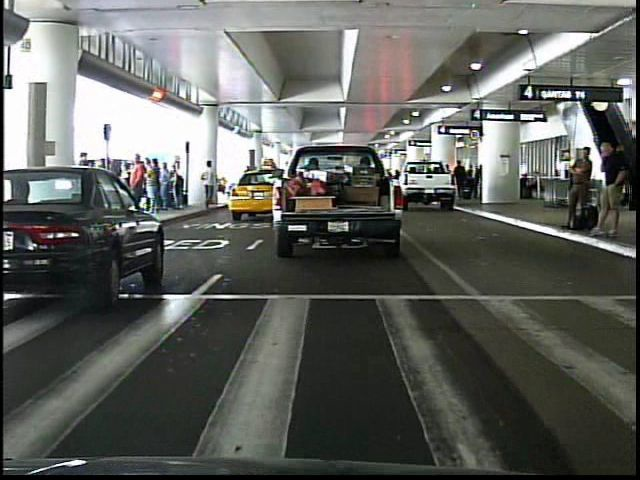person: (592, 137, 628, 240), (560, 136, 595, 239), (124, 153, 150, 220), (200, 160, 222, 212)
